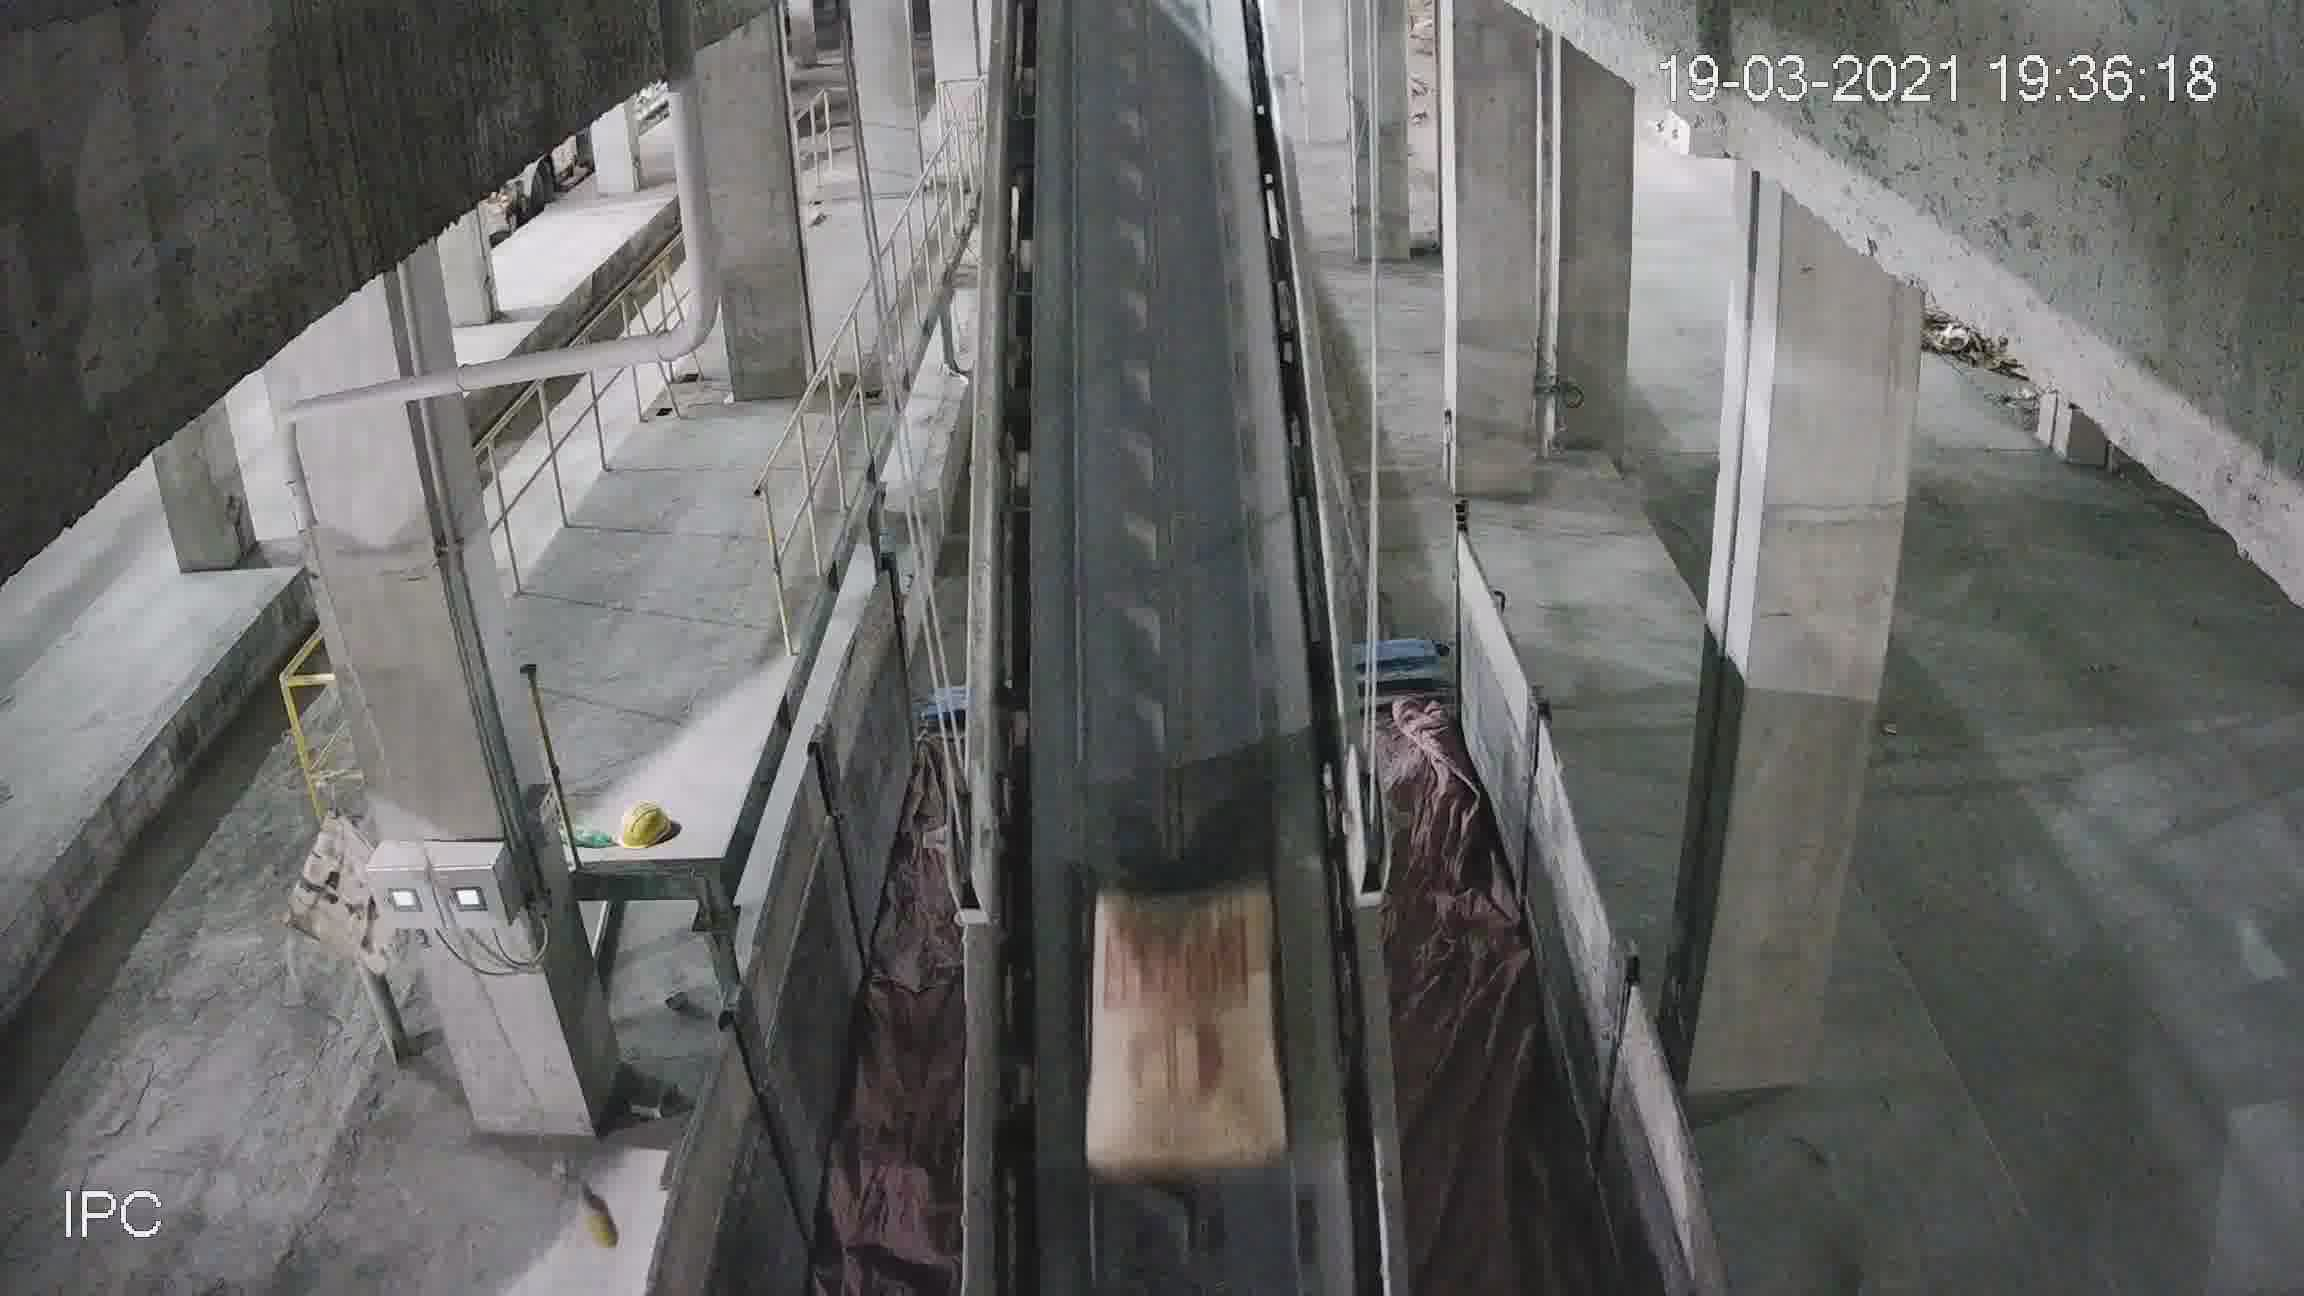bag: (1089, 889, 1283, 1177)
belt: (962, 100, 1396, 1294)
